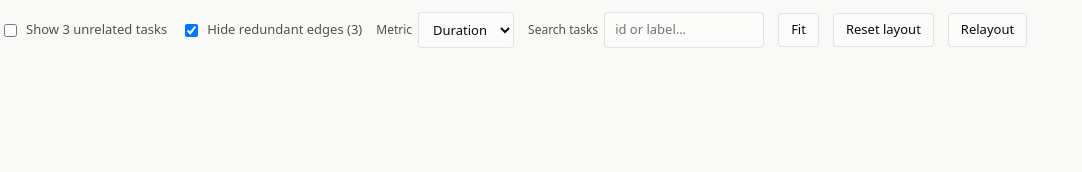
Test case: GraphToolbar › AC-3: ArrowUp cycles backwards
Type "u" into the field labelled "Search tasks".
click(684, 30); type("u")  # box [604,12,764,48]
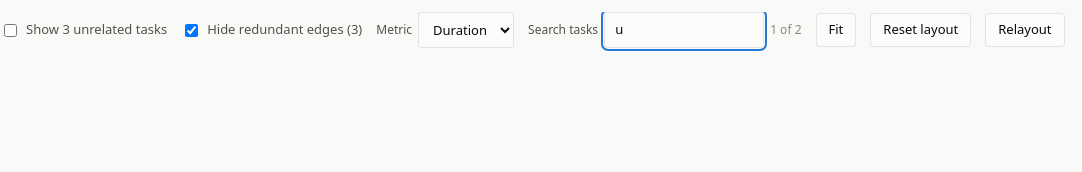
Press Arrowup
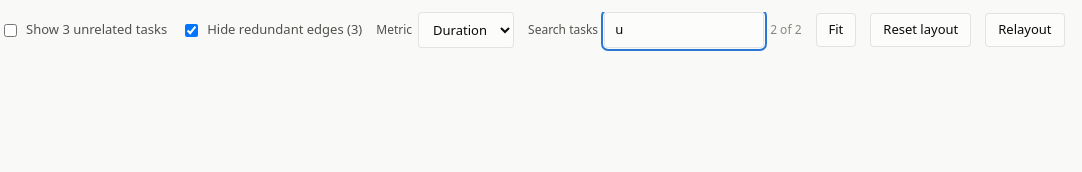
Expected: the text "2 of 2" is shown, [770,21,802,39]
